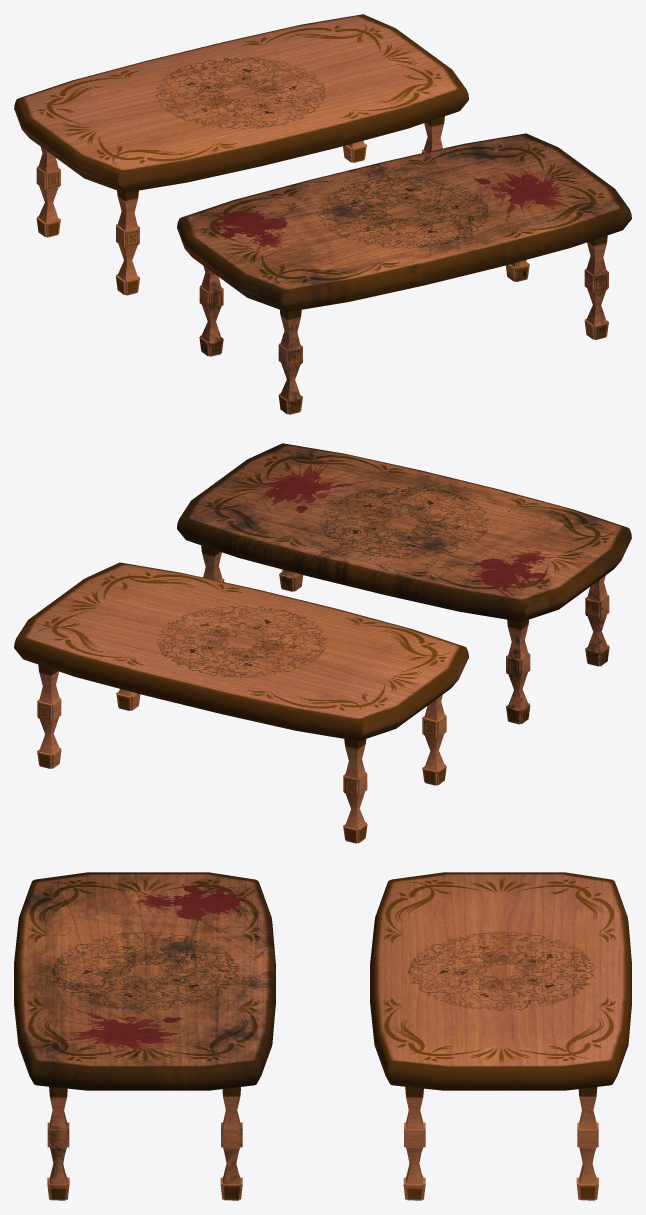
Rendered from uploads_files_2014198_Table+before+and+after+explosion.fbx.
3 renders of one model, top to bottom at view 1: azimuth 30°, elevation 25°; view 2: azimuth 150°, elevation 25°; view 3: azimuth 270°, elevation 25°, orthographic. The views are drawn at different scales.
Parts seen in each view (by area): view 1: table 002, table 1; view 2: table 1, table 002; view 3: table 002, table 1.
Boxes of the visible parts, x1=… form: table 002: x1=177, y1=133, x2=631, y2=414; table 1: x1=14, y1=14, x2=468, y2=295; table 1: x1=14, y1=562, x2=468, y2=843; table 002: x1=177, y1=443, x2=631, y2=724; table 002: x1=14, y1=872, x2=275, y2=1200; table 1: x1=370, y1=872, x2=631, y2=1200.
Size of the model in its own units: 50.62 by 16.87 by 65.77.
2 materials, 2 textured.
